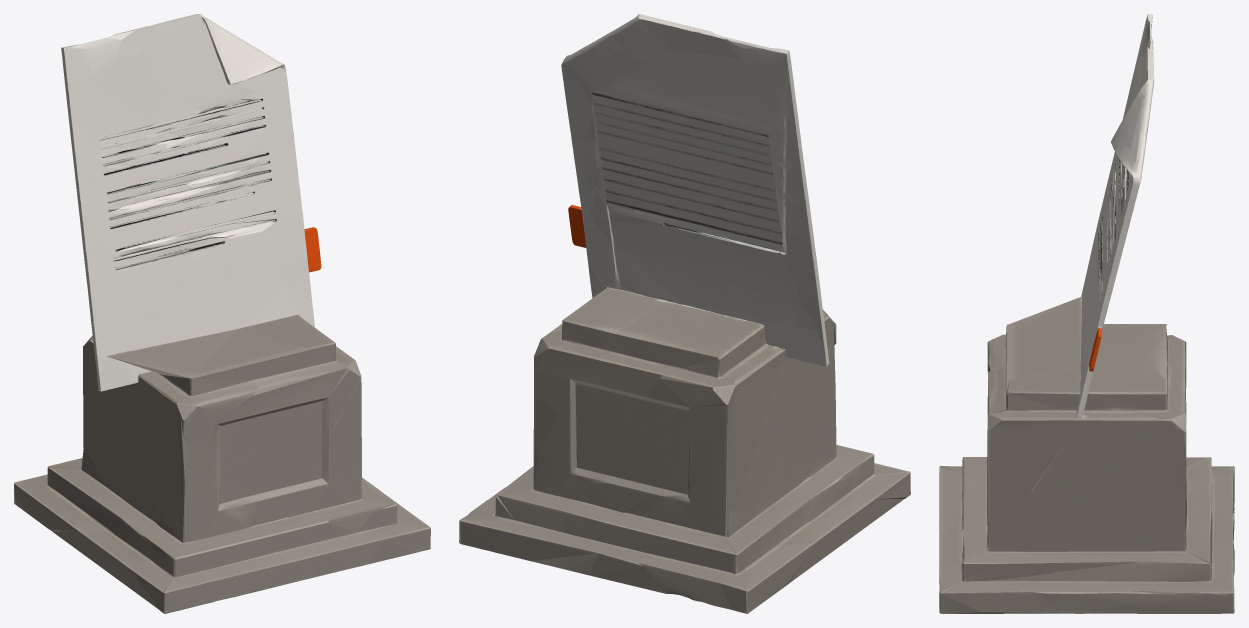
Rendered from resume.glb.
3 renders of one model, left to right at view 1: azimuth 30°, elevation 25°; view 2: azimuth 150°, elevation 25°; view 3: azimuth 270°, elevation 25°, orthographic. The views are drawn at different scales.
Size of the model in its own units: 1.09 by 1.9 by 1.07.
1 material, 1 textured.
